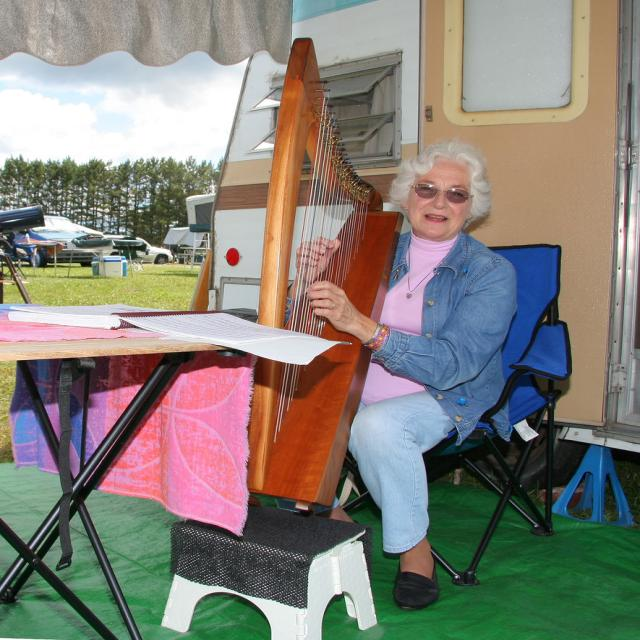harp: (252, 39, 405, 512)
